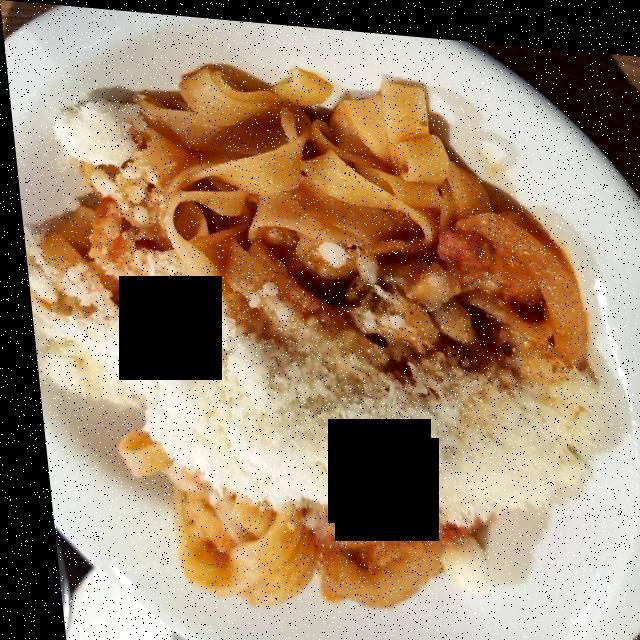cheese: (23, 74, 597, 591)
chicken: (345, 248, 481, 348)
onion: (458, 208, 579, 364)
